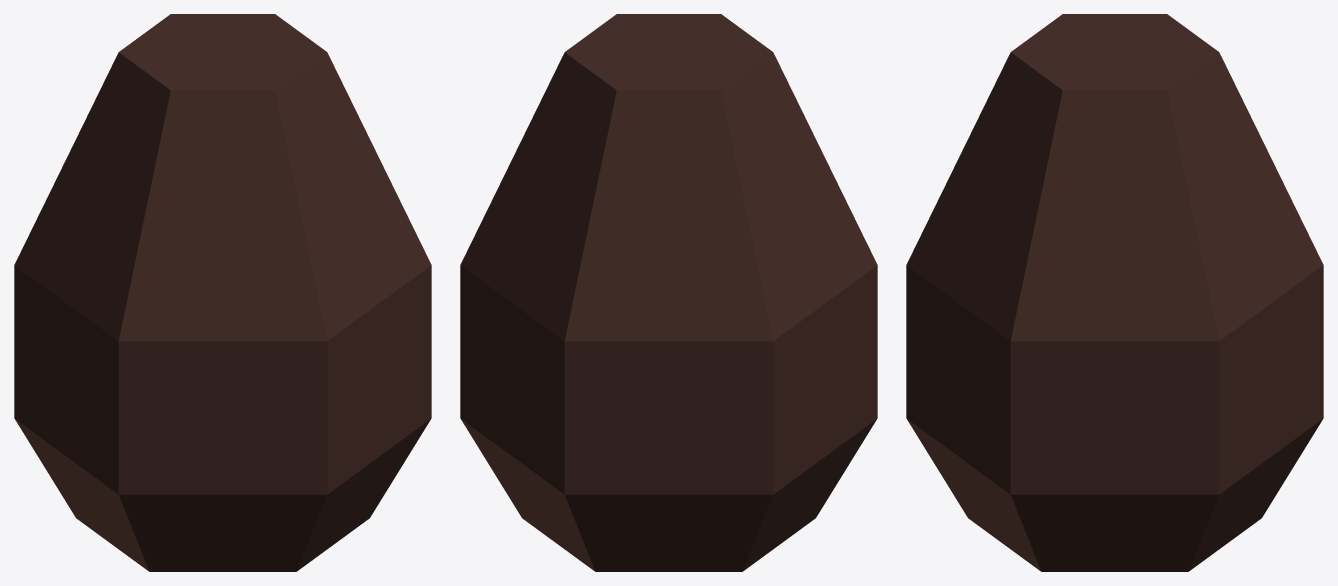
Rendered from avocado.obj.
3 views of the same model, side by side, from view 1: azimuth 30°, elevation 25°; view 2: azimuth 150°, elevation 25°; view 3: azimuth 270°, elevation 25° (orthographic).
Visible parts, largest first — view 1: avocado; view 2: avocado; view 3: avocado.
Part boxes in pixels (bbox=[...]): avocado: bbox=[14, 14, 431, 571]; avocado: bbox=[460, 14, 877, 571]; avocado: bbox=[906, 14, 1323, 571].
Bounding box in the file's own units: 0.1502 × 0.2137 × 0.1734.
